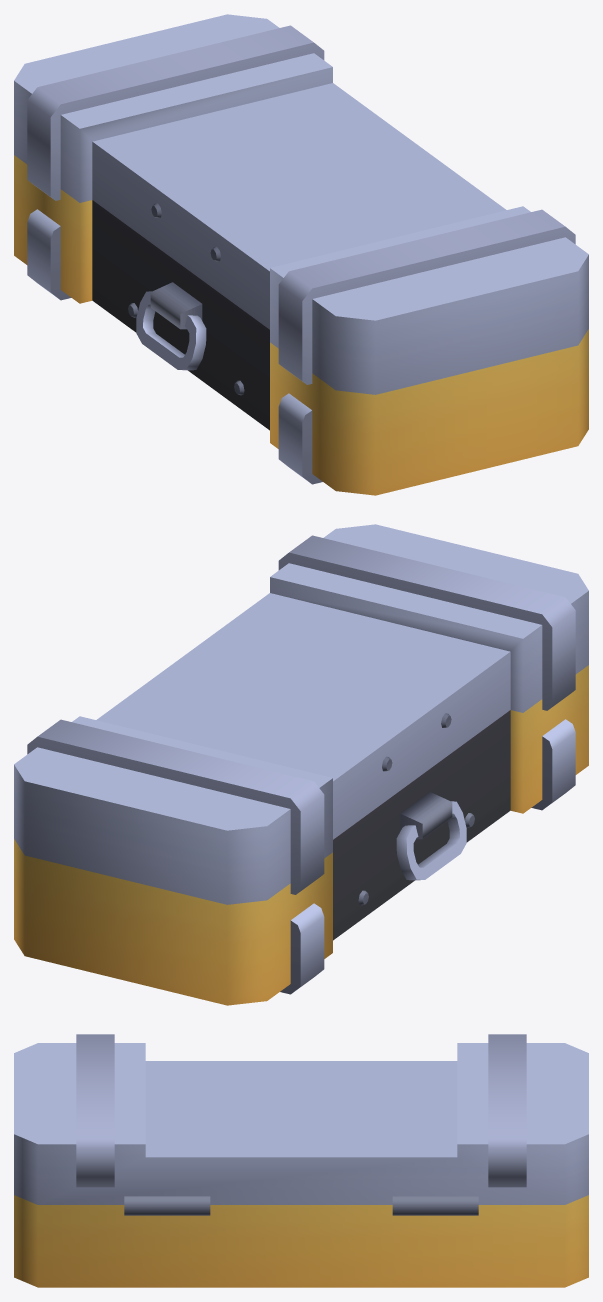
Rendered from crate-wide.glb.
3 views of the same model, one above another, from view 1: azimuth 30°, elevation 25°; view 2: azimuth 150°, elevation 25°; view 3: azimuth 270°, elevation 25° (orthographic). The views are drawn at different scales.
Visible parts, largest first — view 1: lid, crate-wide; view 2: lid, crate-wide; view 3: lid, crate-wide.
Boxes of the visible parts, x1=… form: lid: x1=14, y1=14, x2=588, y2=394; crate-wide: x1=14, y1=155, x2=588, y2=495; lid: x1=14, y1=524, x2=588, y2=904; crate-wide: x1=14, y1=665, x2=588, y2=1005; lid: x1=14, y1=1034, x2=588, y2=1204; crate-wide: x1=14, y1=1195, x2=588, y2=1287.
Size of the model in its own units: 0.5495 by 0.37 by 1.2.
1 material, 1 textured.
